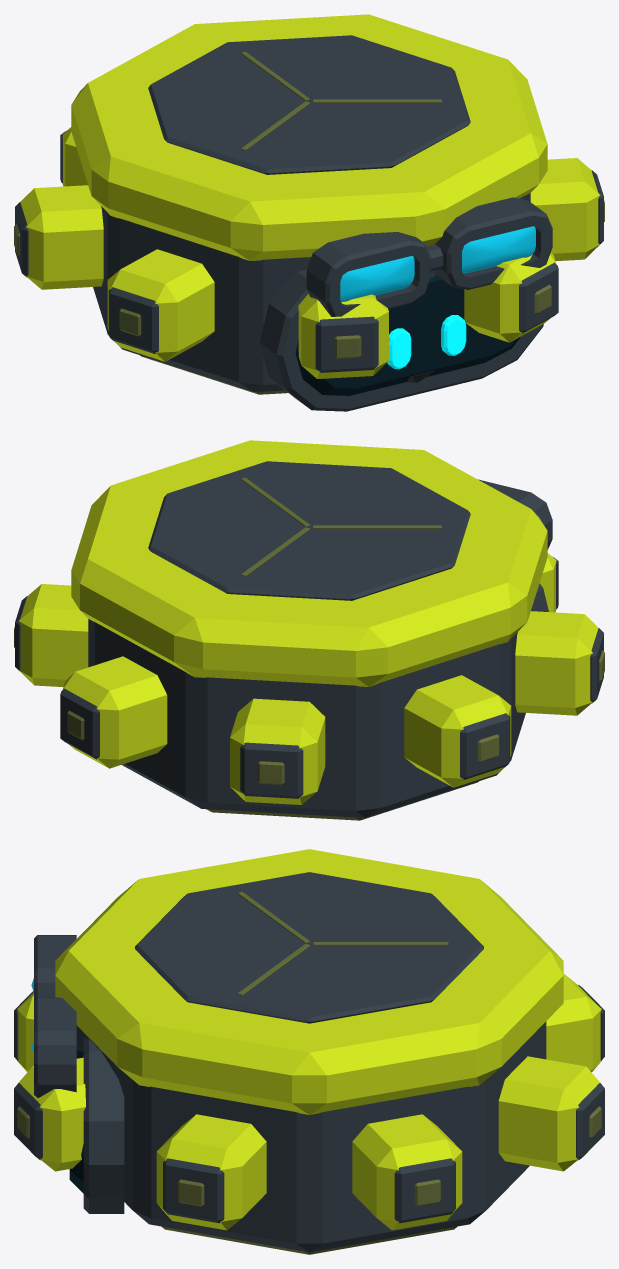
Rendered from linter_agent_v01.glb.
3 views of the same model, one above another, from view 1: azimuth 30°, elevation 25°; view 2: azimuth 150°, elevation 25°; view 3: azimuth 270°, elevation 25° (orthographic). The views are drawn at different scales.
Parts seen in each view (by area): view 1: linter_agent_model; view 2: linter_agent_model; view 3: linter_agent_model.
Part boxes in pixels (<box>): linter_agent_model: <box>14,14,604,411</box>; linter_agent_model: <box>14,440,604,820</box>; linter_agent_model: <box>14,849,604,1254</box>.
Size of the model in its own units: 2.49 by 1.06 by 2.49.
Materials: 2 (2 with a texture image).
